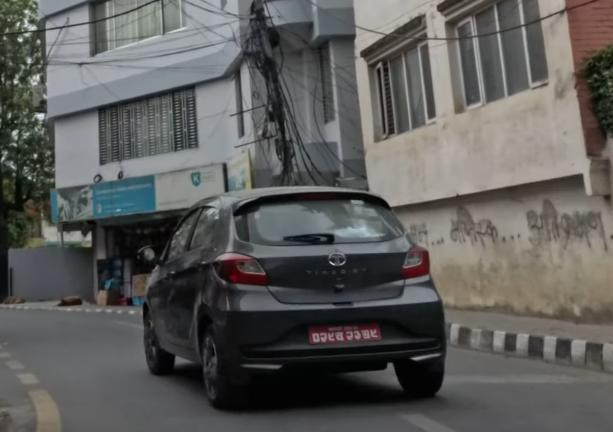car: (148, 180, 457, 403)
